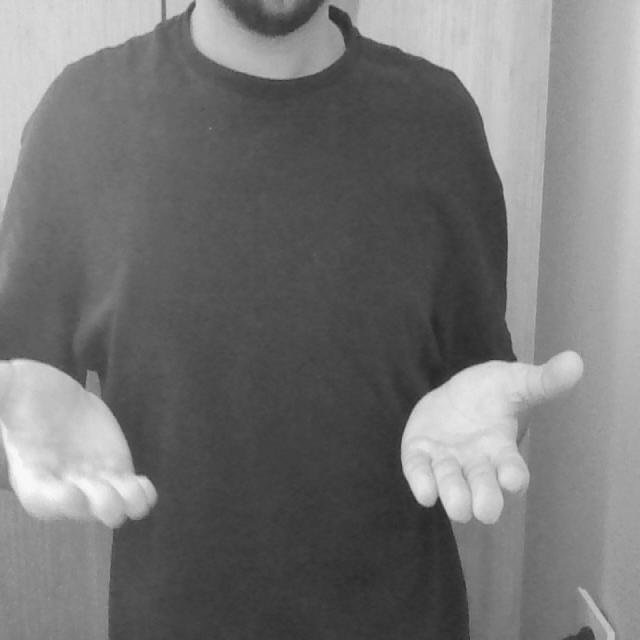Evet: (0, 347, 590, 533)
